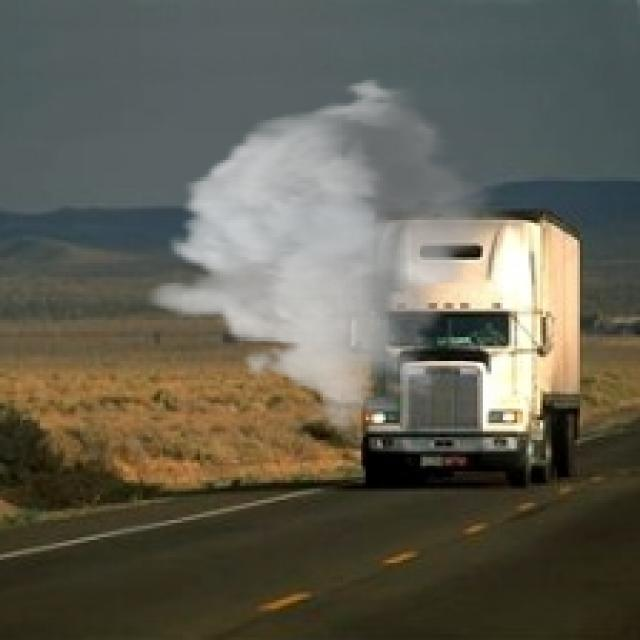Smoke: (143, 74, 503, 432)
